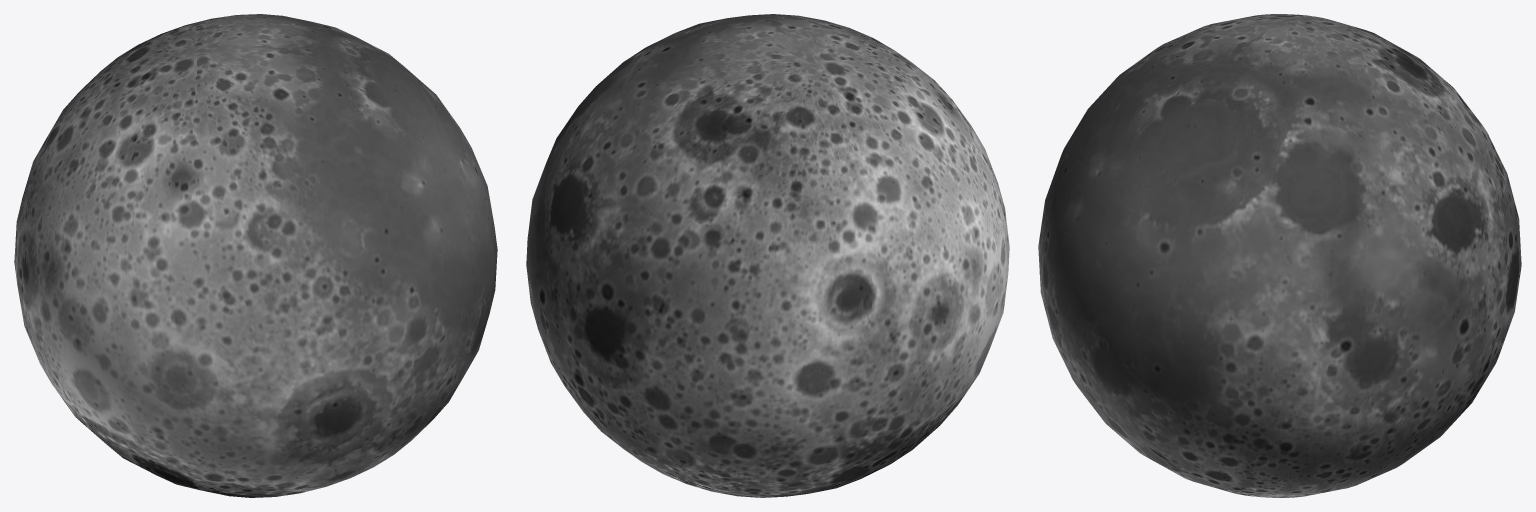
Rendered from earth_moon.obj.
3 views of the same model, side by side, from view 1: azimuth 30°, elevation 25°; view 2: azimuth 150°, elevation 25°; view 3: azimuth 270°, elevation 25° (orthographic).
Parts seen in each view (by area): view 1: Moon_Mesh.002; view 2: Moon_Mesh.002; view 3: Moon_Mesh.002.
Boxes of the visible parts, bbox=[...] form: Moon_Mesh.002: bbox=[14, 14, 497, 497]; Moon_Mesh.002: bbox=[526, 14, 1009, 497]; Moon_Mesh.002: bbox=[1038, 14, 1521, 497].
Size of the model in its own units: 1.1 by 1.1 by 1.1.
Materials: 1 (1 with a texture image).
